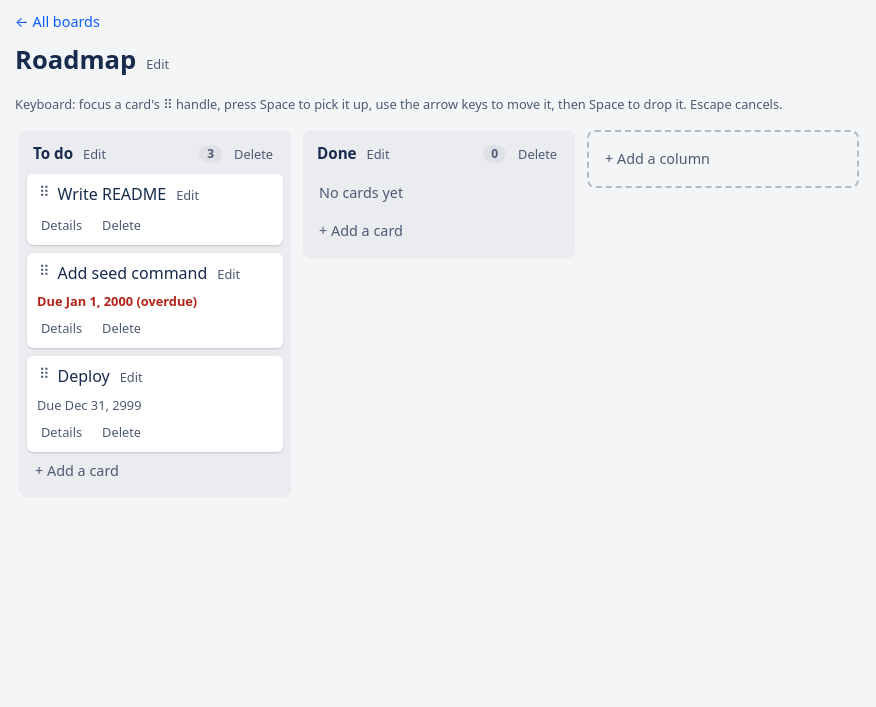
Test: BoardPage cards › keeps the form open so several cards can be added in a row
The image size is (876, 707).
Click the button "+ Add a card" below "Dec 31, 2999" at x=155, y=471, box x1=27 y1=452 x2=283 y2=490
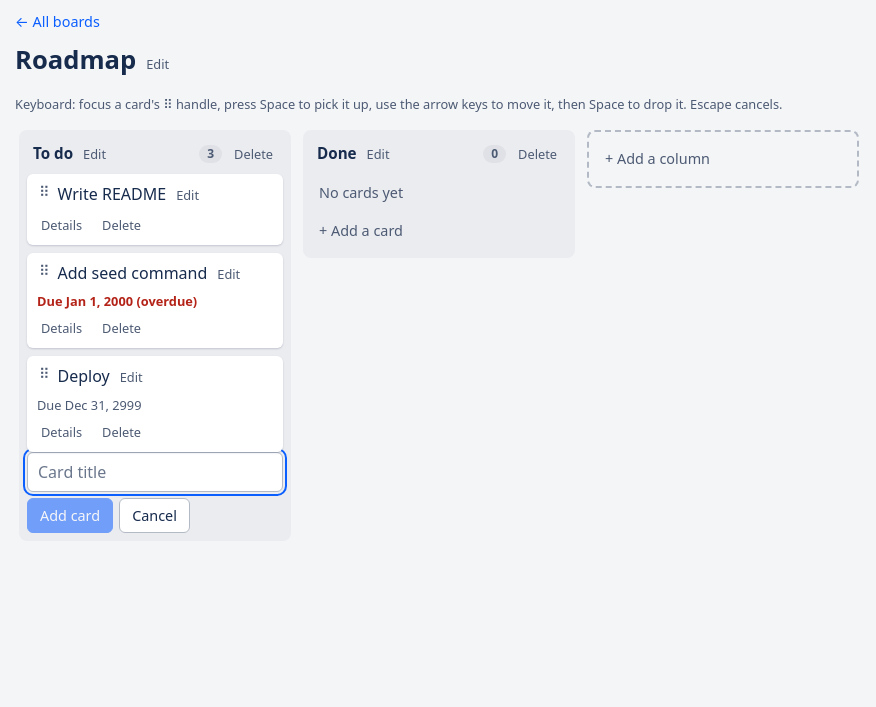
Type "One" into the field labelled "Card title" at x=155, y=472, box x1=27 y1=452 x2=283 y2=492
Then press Enter
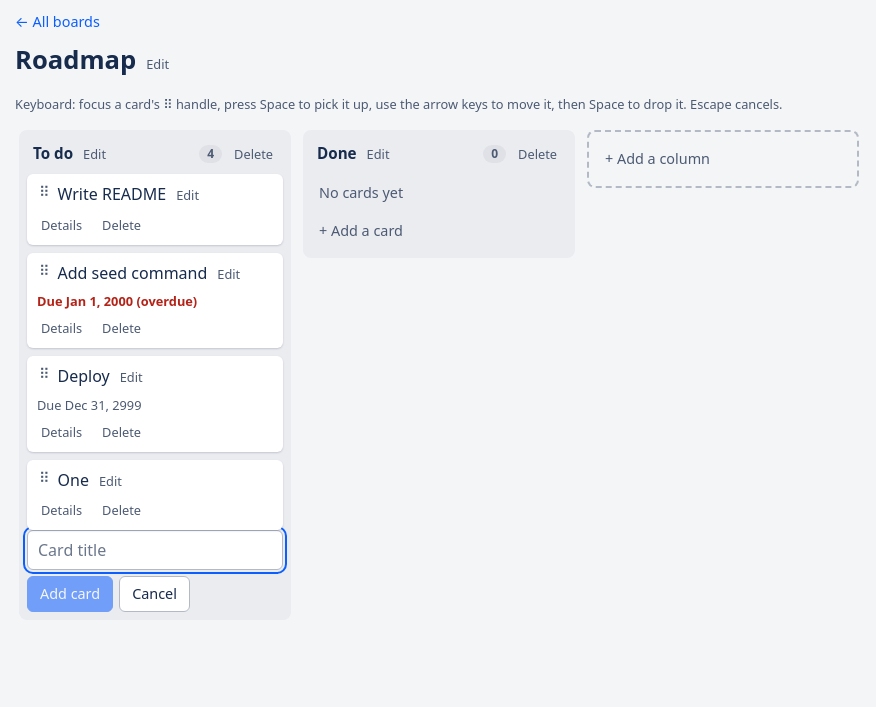
Type "Two" into the field labelled "Card title" at x=155, y=550, box x1=27 y1=530 x2=283 y2=570
Then press Enter
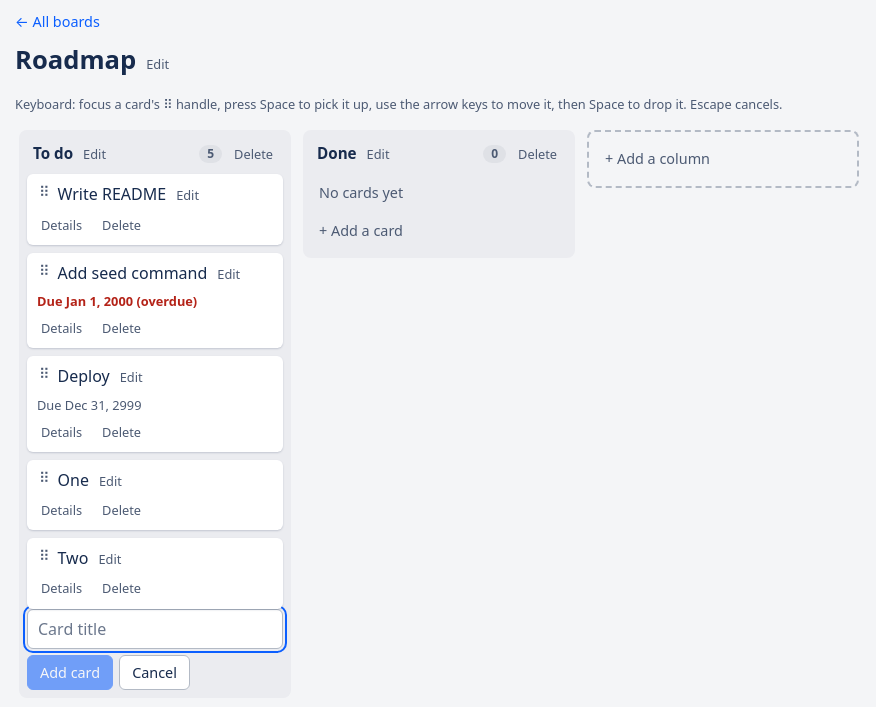
Expected: the text "One" is shown, x1=58 y1=468 x2=89 y2=492
Expected: the text "Two" is shown, x1=58 y1=546 x2=88 y2=570
Expected: the number of list items is 5, x1=27 y1=174 x2=283 y2=245; x1=27 y1=253 x2=283 y2=348; x1=27 y1=356 x2=283 y2=452; x1=27 y1=460 x2=283 y2=530; x1=27 y1=538 x2=283 y2=609
